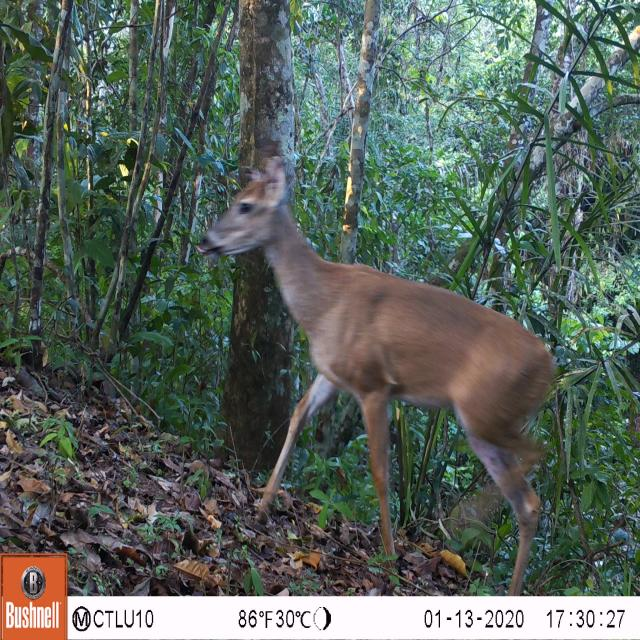White-tailed Deer: (194, 147, 558, 586)
